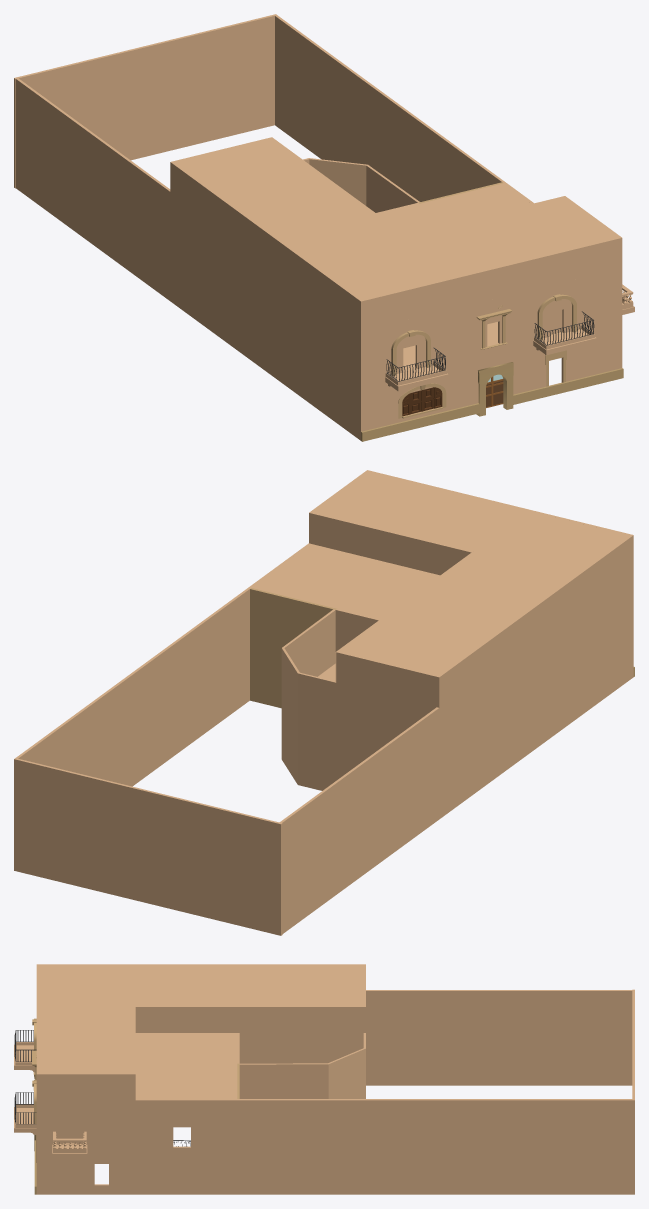
The model's file is house.fbx.
3 views of the same model, one above another, from view 1: azimuth 30°, elevation 25°; view 2: azimuth 150°, elevation 25°; view 3: azimuth 270°, elevation 25° (orthographic). The views are drawn at different scales.
Parts seen in each view (by area): view 1: Cube.004, Cube.006, Cube, Cube.009, Cube.013, Cube.014, Cube.008, Cube.002, Cube.027, Cube.029, Cube.050, Cube.028; view 2: Cube.004, Cube.006, Cube.013, Cube.009, Cube.008, Cube.007, Cube.011; view 3: Cube.009, Cube.004, Cube.013, Cube.010, Cube.008, Cube.015, Cube.029, Cube.027, Cube.034.
Part boxes in pixels (x1=…): Cube.004: x1=15, y1=77, x2=460, y2=439; Cube.006: x1=14, y1=14, x2=274, y2=188; Cube: x1=359, y1=268, x2=622, y2=440; Cube.009: x1=274, y1=14, x2=533, y2=203; Cube.013: x1=377, y1=183, x2=617, y2=275; Cube.014: x1=359, y1=237, x2=619, y2=331; Cube.008: x1=303, y1=158, x2=419, y2=212; Cube.002: x1=361, y1=368, x2=623, y2=441; Cube.027: x1=385, y1=347, x2=448, y2=391; Cube.029: x1=533, y1=311, x2=596, y2=355; Cube.050: x1=476, y1=362, x2=513, y2=416; Cube.028: x1=402, y1=387, x2=442, y2=416; Cube.004: x1=278, y1=511, x2=632, y2=935; Cube.006: x1=16, y1=758, x2=282, y2=935; Cube.013: x1=251, y1=472, x2=528, y2=619; Cube.009: x1=14, y1=543, x2=310, y2=871; Cube.008: x1=281, y1=609, x2=436, y2=790; Cube.007: x1=250, y1=588, x2=336, y2=708; Cube.011: x1=335, y1=609, x2=379, y2=651; Cube.009: x1=39, y1=1099, x2=634, y2=1194; Cube.004: x1=39, y1=964, x2=634, y2=1085; Cube.013: x1=39, y1=1007, x2=237, y2=1098; Cube.010: x1=63, y1=1007, x2=365, y2=1143; Cube.008: x1=239, y1=1033, x2=365, y2=1098; Cube.015: x1=36, y1=1073, x2=135, y2=1100; Cube.029: x1=14, y1=1092, x2=36, y2=1134; Cube.027: x1=14, y1=1030, x2=36, y2=1072; Cube.034: x1=52, y1=1144, x2=87, y2=1157.
Bounding box in the file's own units: 5602 × 2700 × 12296.
